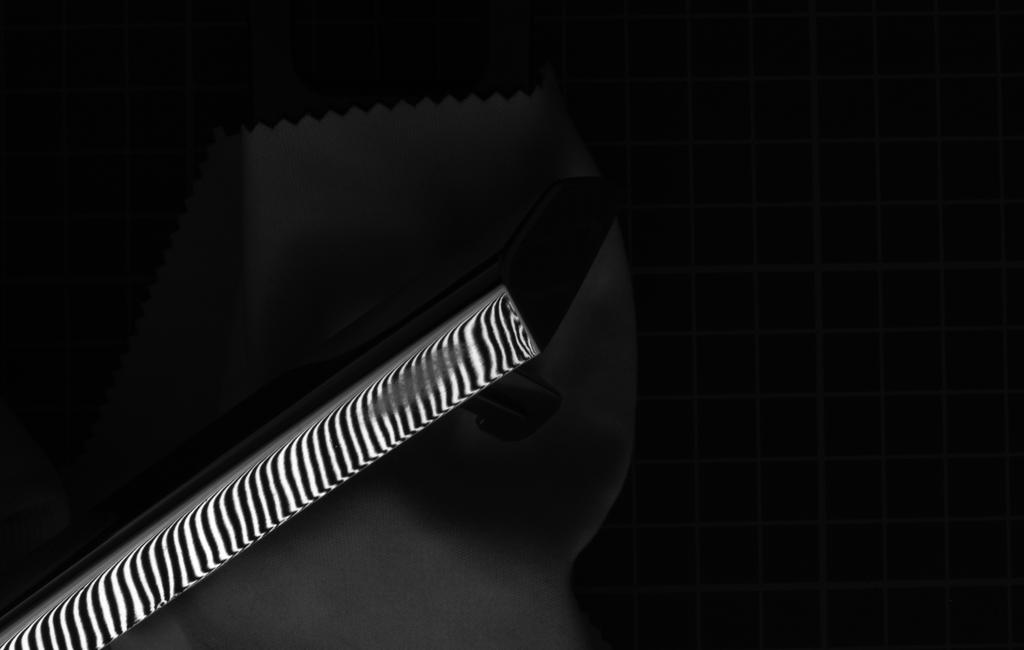Pitting: (354, 330, 475, 431)
